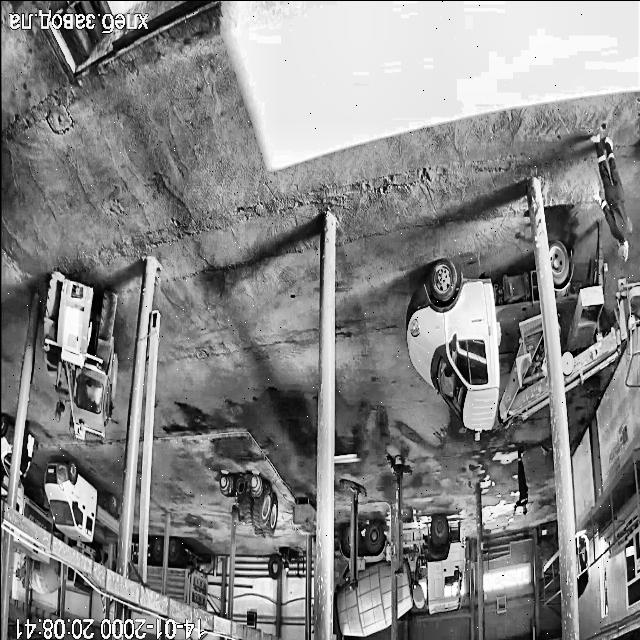class4: (590, 135, 632, 260), (513, 451, 528, 515), (20, 421, 33, 477)
class6: (44, 270, 116, 437), (220, 475, 278, 537), (56, 402, 64, 418)
class7: (407, 260, 548, 439), (334, 516, 464, 636), (549, 228, 640, 389), (44, 460, 118, 540), (167, 538, 207, 610), (16, 484, 52, 532), (29, 557, 60, 594), (146, 538, 163, 592), (12, 538, 48, 562), (0, 414, 13, 475), (66, 566, 92, 595), (73, 541, 102, 563), (130, 543, 140, 580), (0, 476, 8, 497), (626, 378, 640, 386), (20, 564, 24, 587)
truck: (388, 455, 411, 574), (340, 479, 365, 588)
